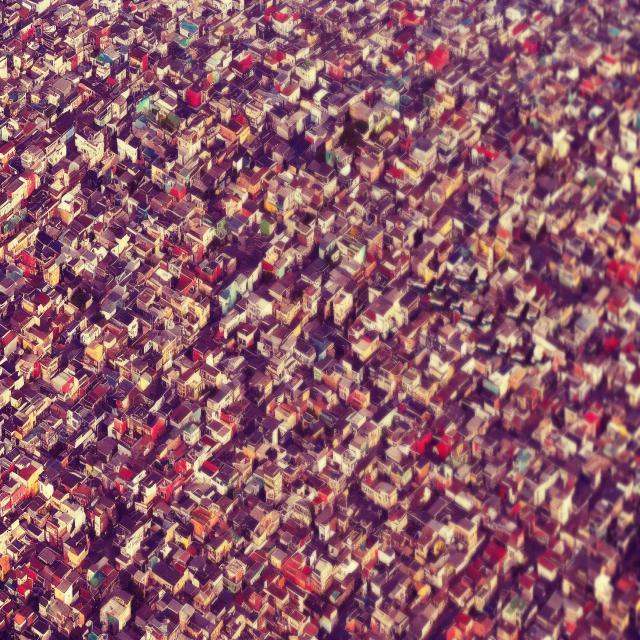airplane: (452, 265, 492, 293), (405, 273, 448, 296), (510, 345, 550, 368), (506, 301, 541, 327), (475, 336, 511, 359), (460, 309, 498, 329), (428, 298, 464, 312)
